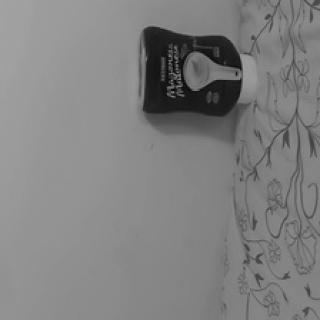plastic_bottles: (136, 19, 262, 114)
